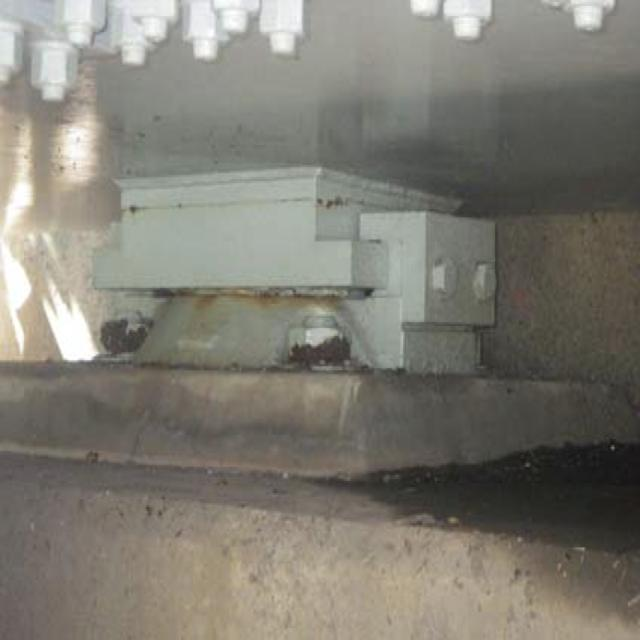corrosion: (82, 281, 378, 393)
